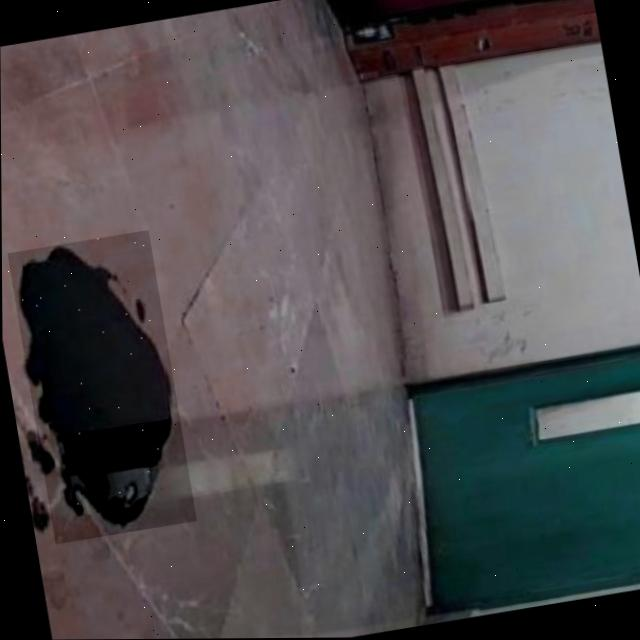spillage: (16, 245, 178, 532)
